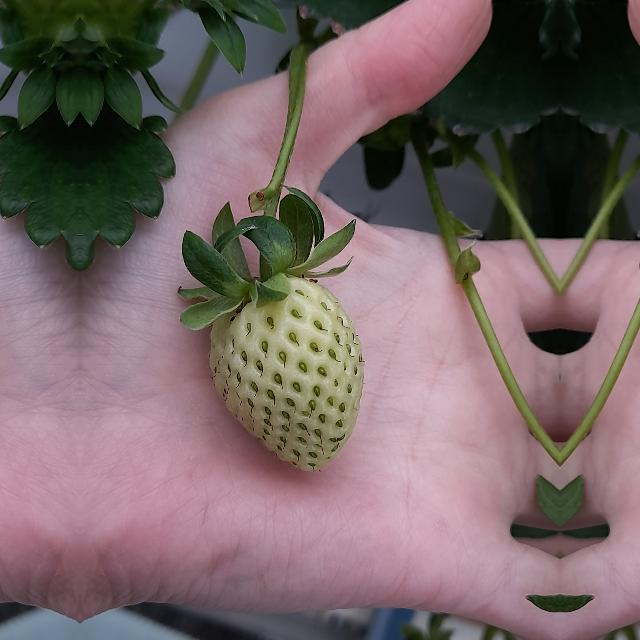Health_25: (210, 278, 364, 470)
